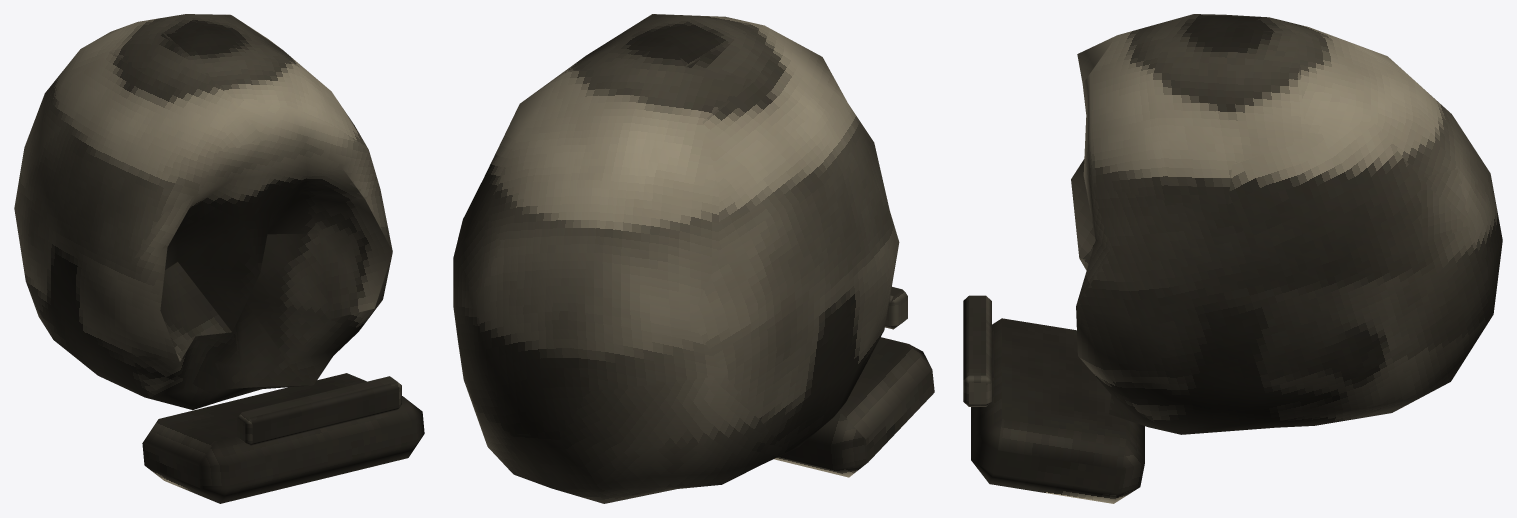
File: skull.glb
The picture shows the model from 3 angles, left to right: view 1: azimuth 30°, elevation 25°; view 2: azimuth 150°, elevation 25°; view 3: azimuth 270°, elevation 25°; orthographic projection. The views are drawn at different scales.
Visible parts, largest first — view 1: skull; view 2: skull; view 3: skull.
Part boxes in pixels (x1=…): skull: x1=14, y1=14, x2=424, y2=503; skull: x1=453, y1=14, x2=934, y2=503; skull: x1=963, y1=14, x2=1502, y2=503.
Size of the model in its own units: 0.1268 by 0.1647 by 0.1881.
Materials: 1 (1 with a texture image).
